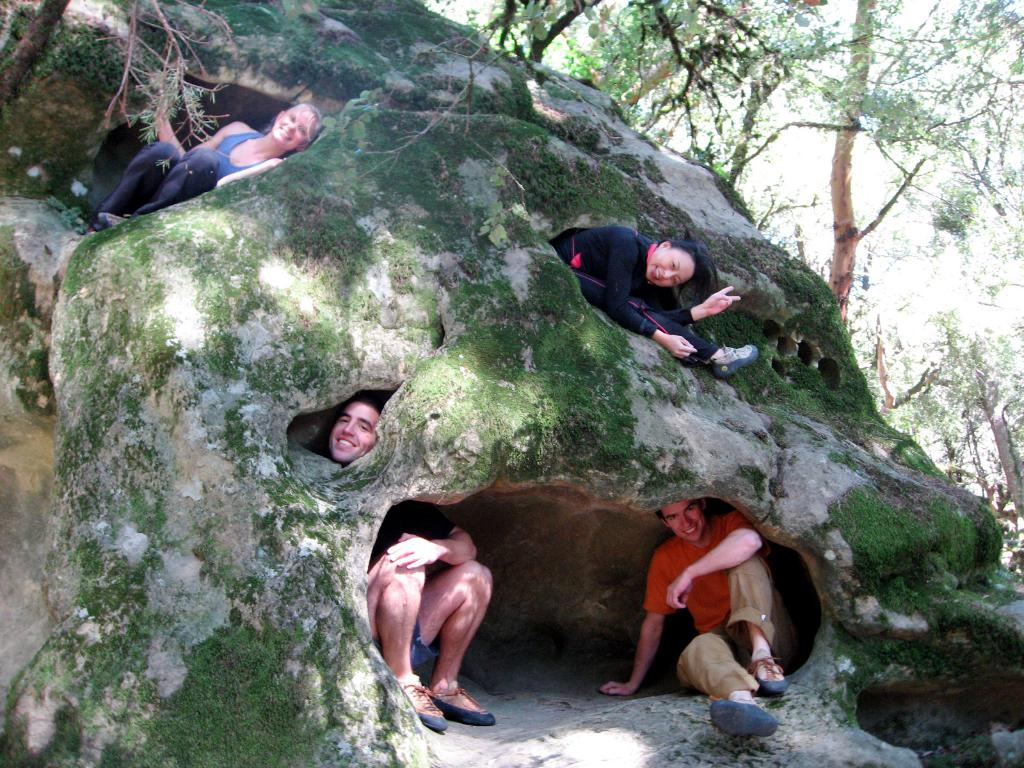Footwear: (710, 699, 780, 739), (400, 675, 445, 730), (436, 688, 494, 723), (708, 344, 756, 380), (748, 651, 788, 692), (92, 213, 129, 232)
